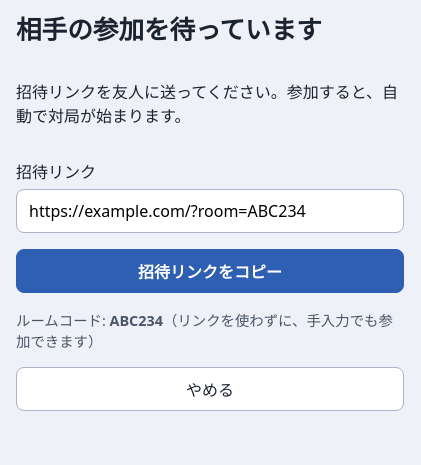
WaitingRoom › 「招待リンクをコピー」で、クリップボードにリンクを書き込み、知らせる
This screenshot has width=421, height=465.
Click the button "招待リンクをコピー": click(210, 271) top-left (16, 249), bottom-right (404, 293)
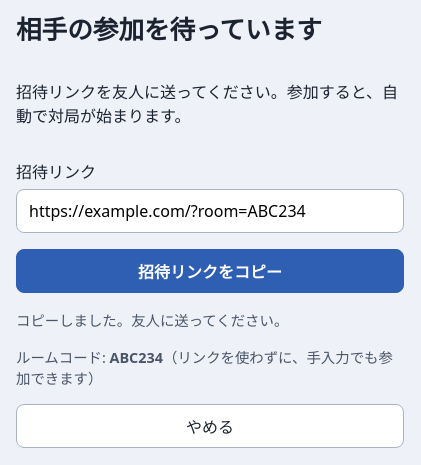
Check: the text "コピーしました。友人に送ってください。" is shown, box top-left (16, 311), bottom-right (288, 330)
